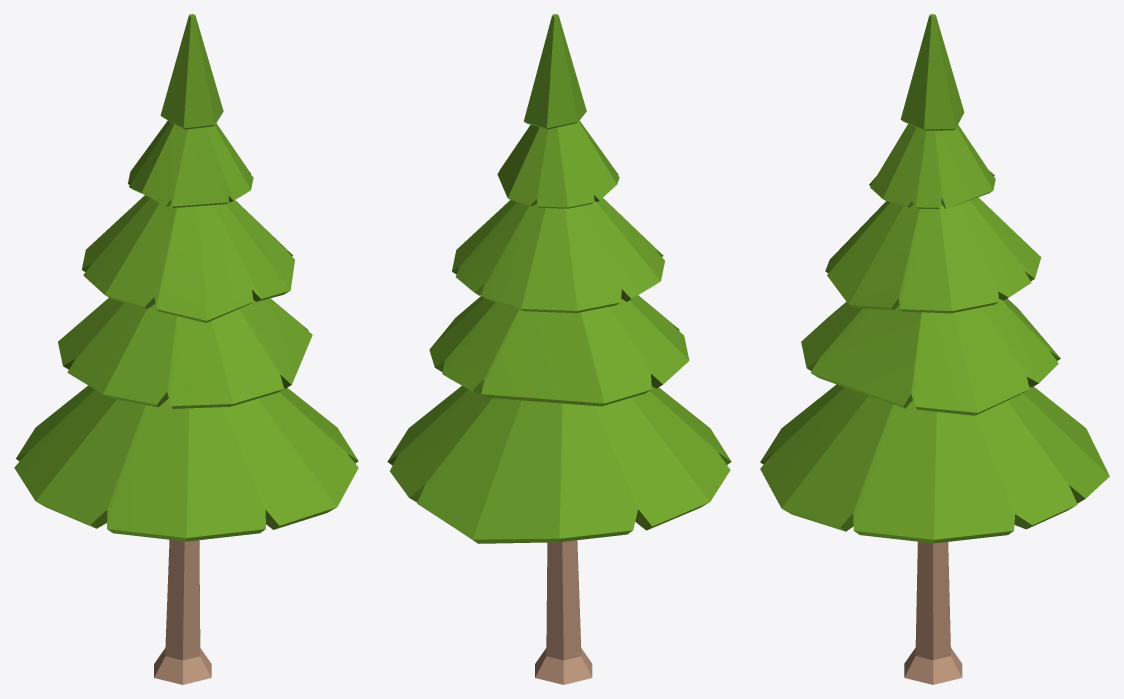
Rendered from SM_Tree_07.fbx.
3 views of the same model, side by side, from view 1: azimuth 30°, elevation 25°; view 2: azimuth 150°, elevation 25°; view 3: azimuth 270°, elevation 25° (orthographic).
Visible parts, largest first — view 1: SM_Tree_07; view 2: SM_Tree_07; view 3: SM_Tree_07.
Boxes of the visible parts, x1=… form: SM_Tree_07: x1=14, y1=14, x2=358, y2=684; SM_Tree_07: x1=387, y1=14, x2=731, y2=684; SM_Tree_07: x1=760, y1=14, x2=1109, y2=684.
Size of the model in its own units: 276 by 570 by 274.
2 materials, 2 textured.
